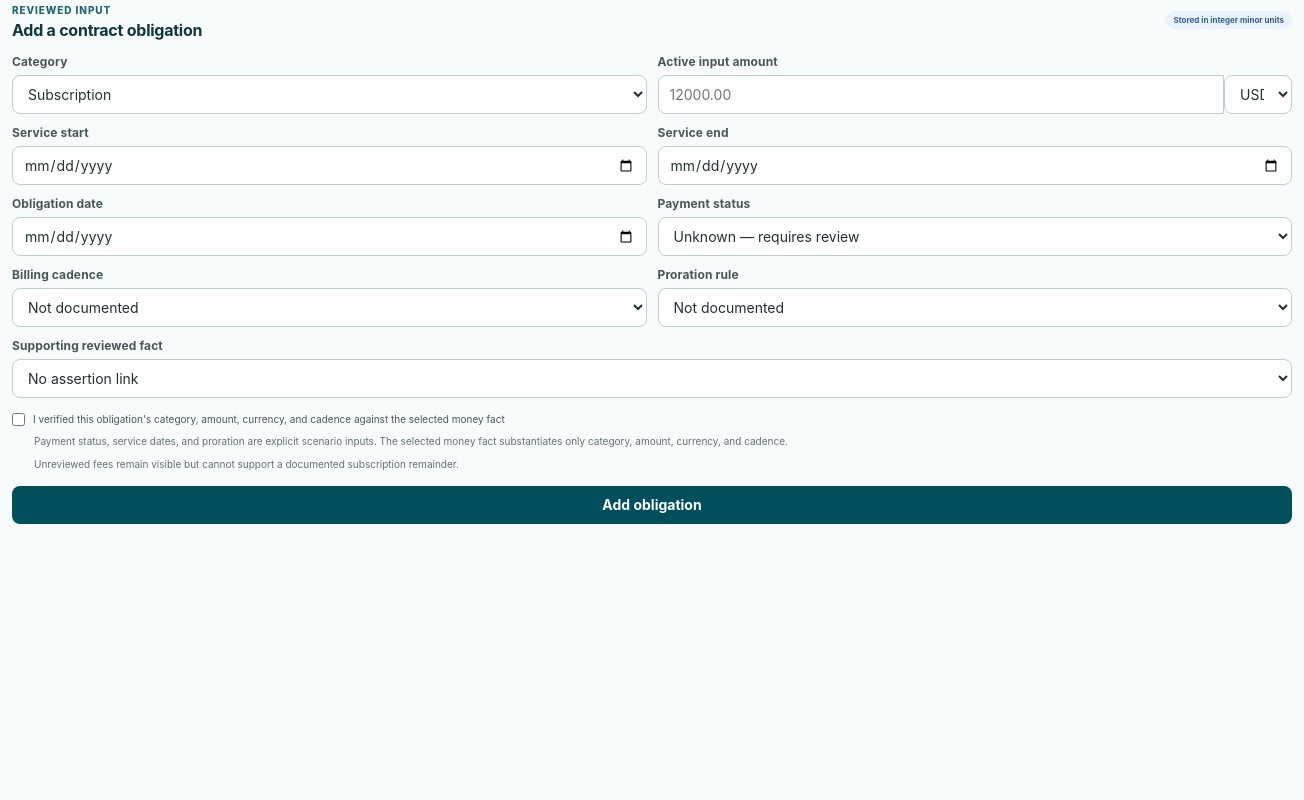
Test case: economics fee entry › rejects fractional cents before making an API request
In the field labelled "Active input amount": (941, 94) [658,75,1224,114], type "10.999"
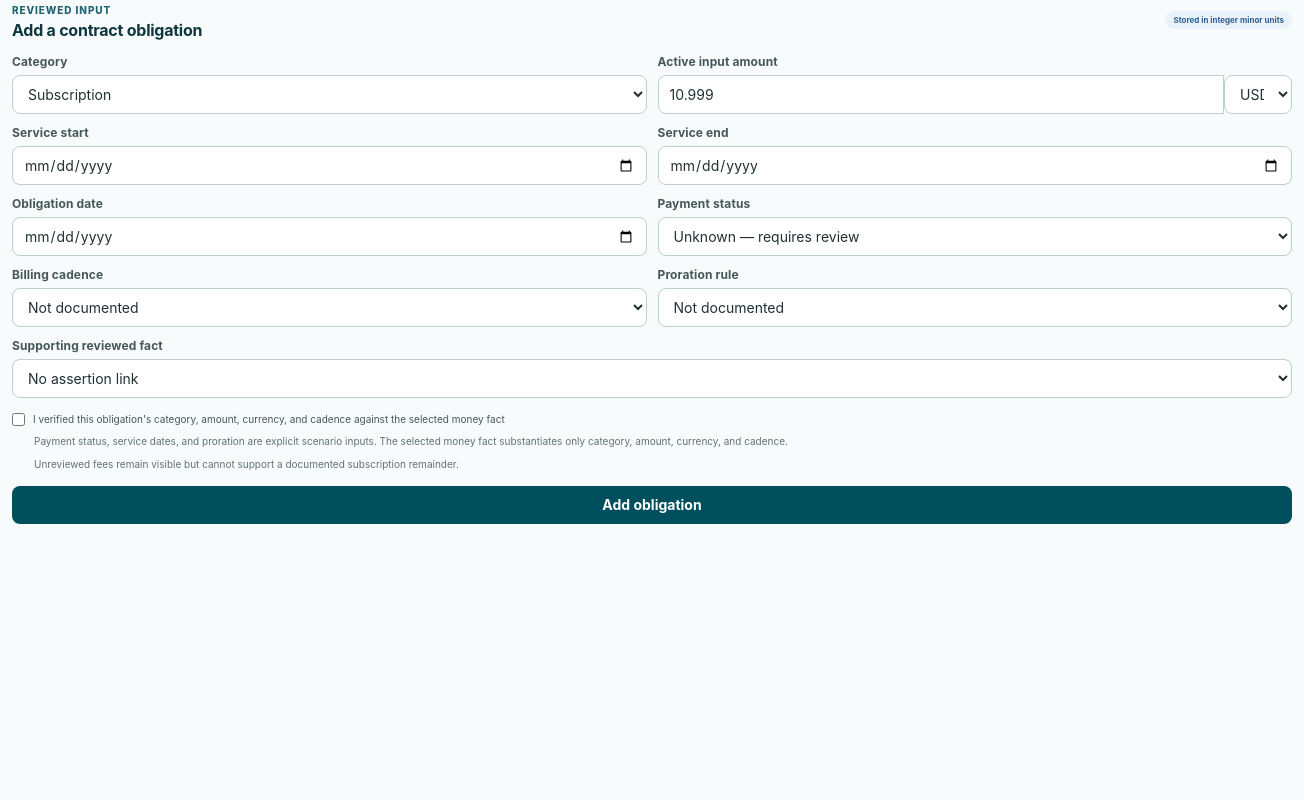
Click the button "Add obligation": click(652, 505) [12,486,1292,524]
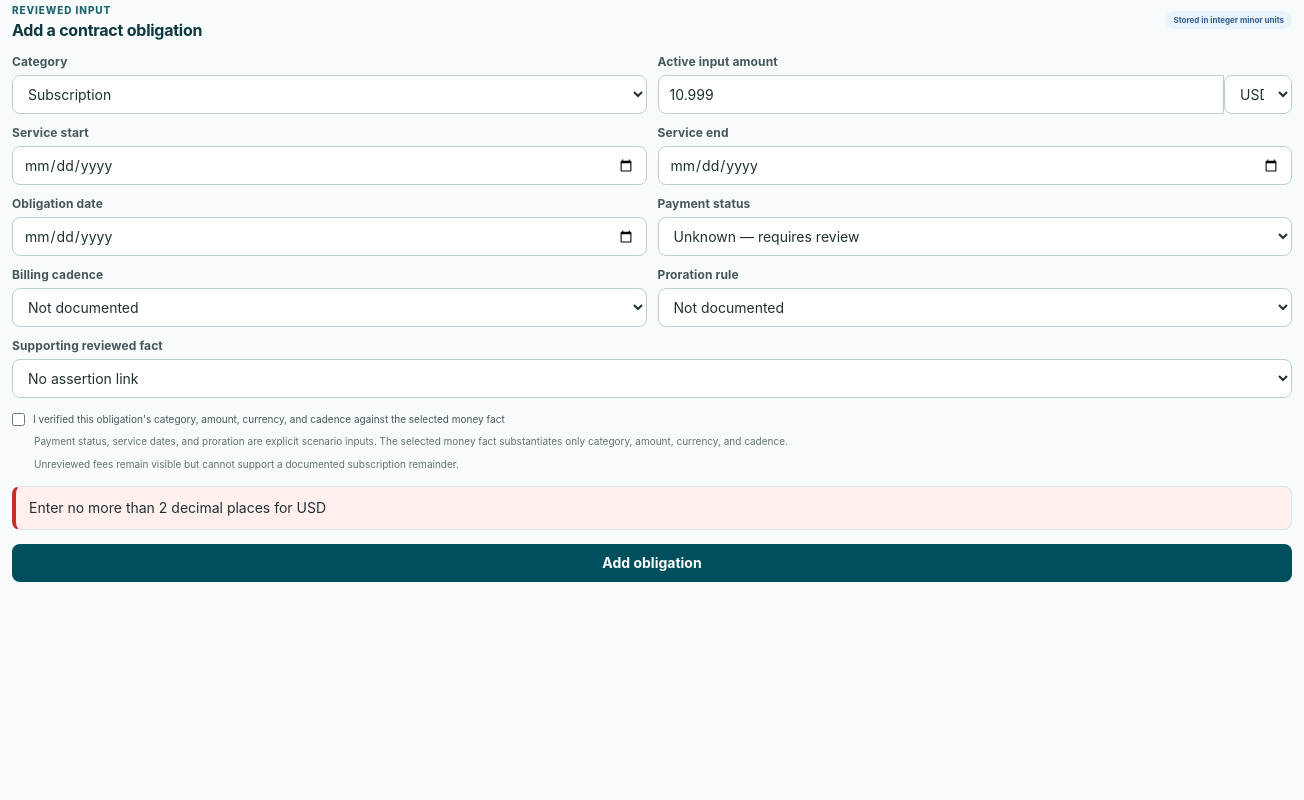
Check: the message shows "2 decimal places", box [29,499,326,516]
